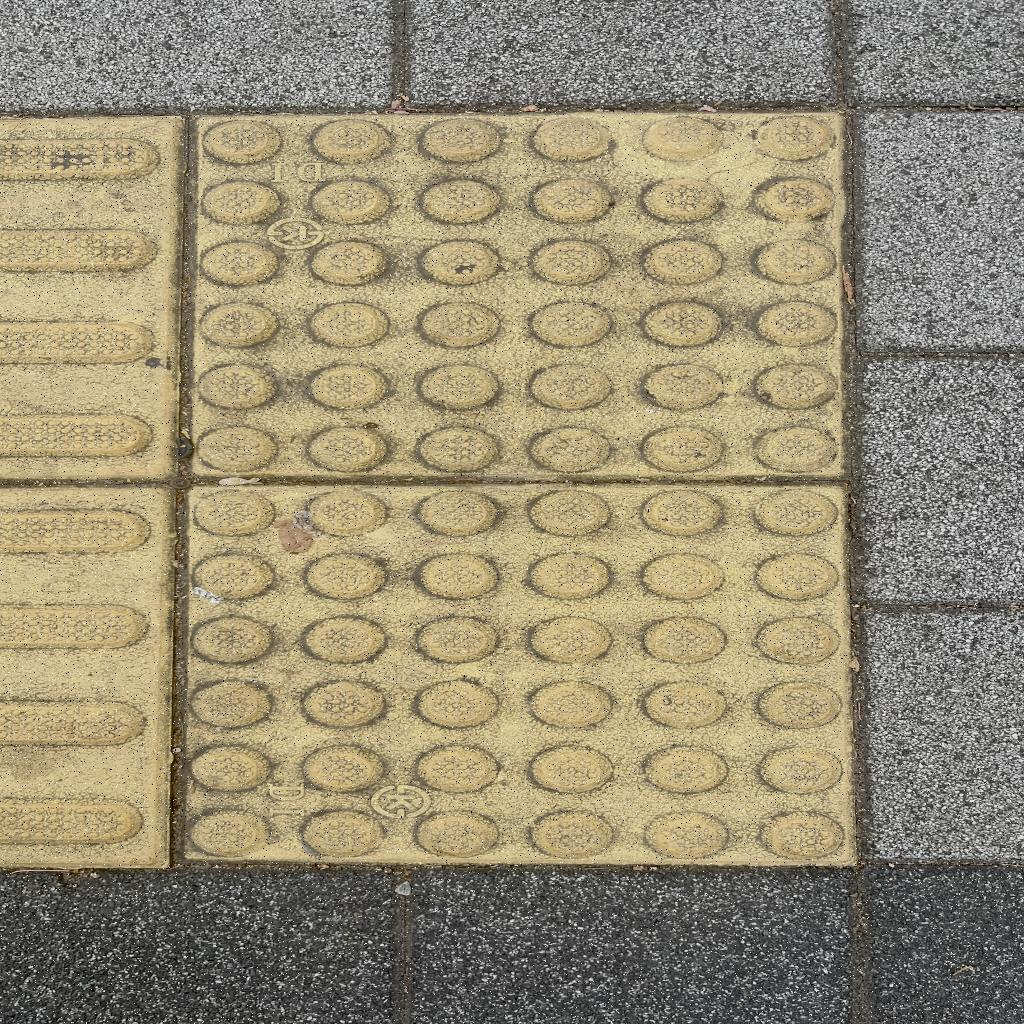Stop block normal: (193, 488, 847, 861)
